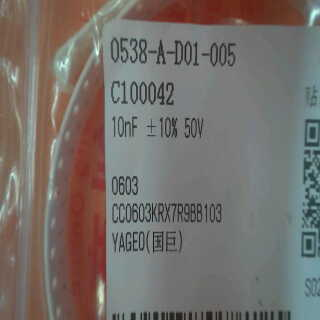10nF: (107, 111, 145, 138)
